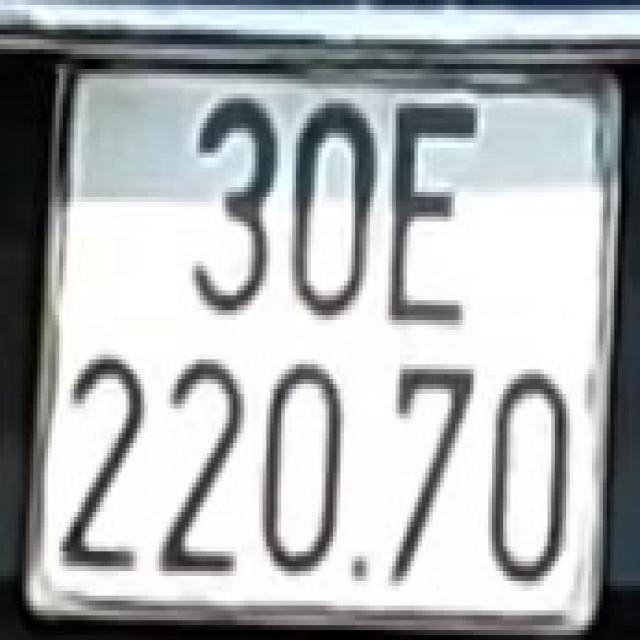0: (288, 94, 378, 320), (259, 354, 344, 576), (488, 364, 570, 586)
2: (159, 354, 244, 576), (59, 349, 141, 572)
3: (188, 88, 278, 320)
7: (384, 359, 474, 586)
E: (388, 93, 481, 324)
